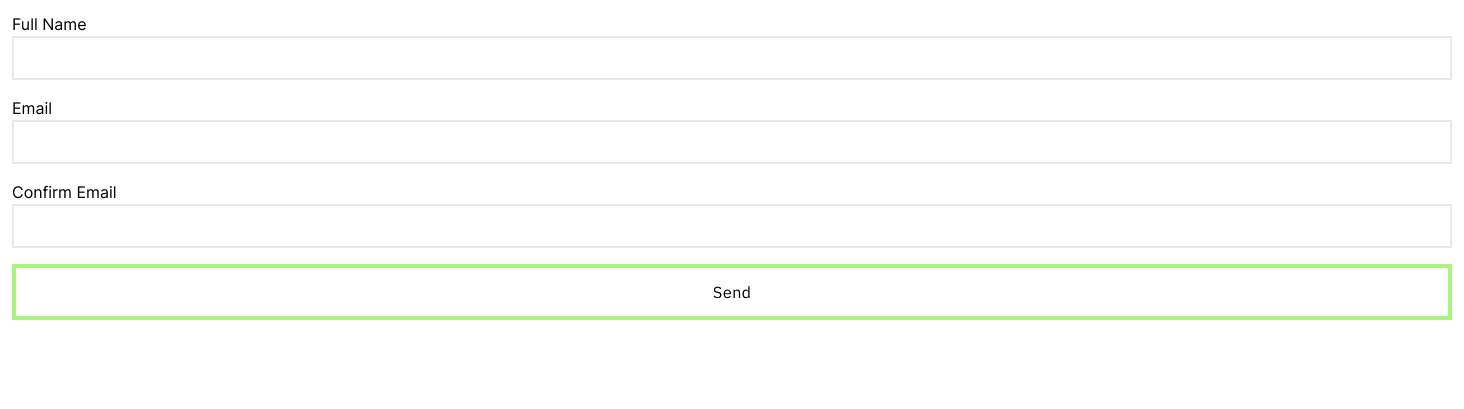
Test: all fields are required
Click the button "Send". click: click(732, 292)
box: [12, 264, 1452, 320]
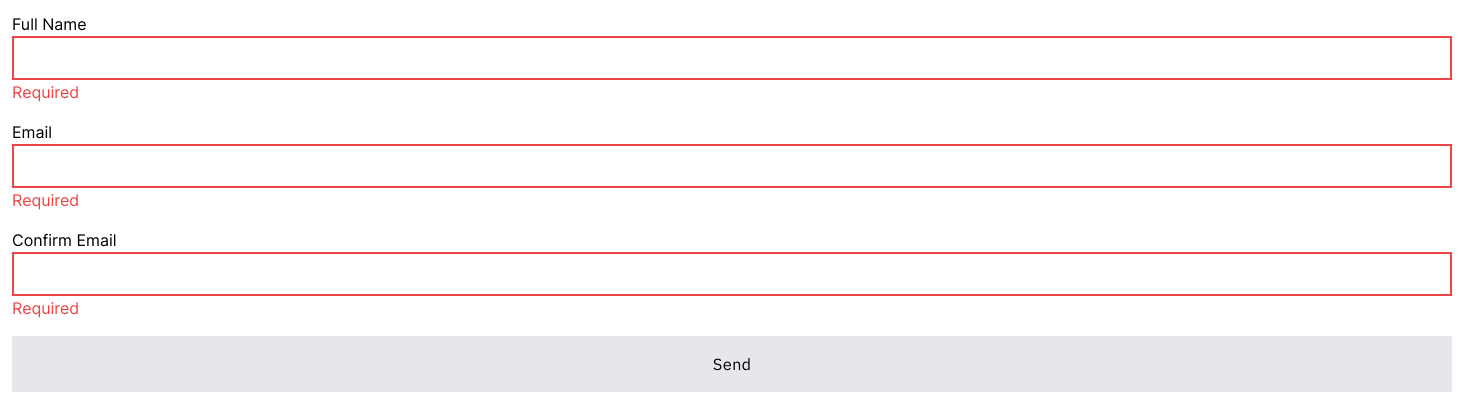
Check: the button "Send" is disabled, box [12, 336, 1452, 392]
